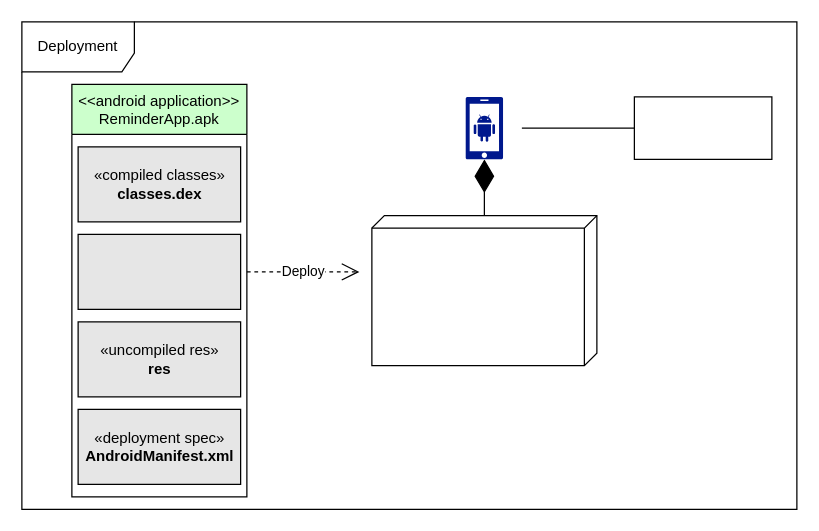
The diagram is 819 pixels wide and 531 high, and some of its shapes have lost their labels. Here are the shapes that lost their labels. From the top down, the centre of each, then its label:
At pixel 702 127: "External Storage".
At pixel 159 271: "«compiled resources» resources.arsc".
At pixel 484 290: "<<execution Env>> Android".
